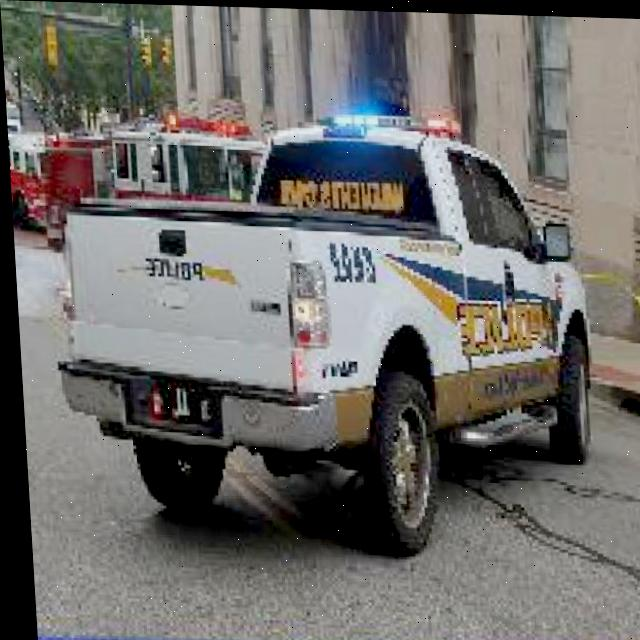emergency: (36, 98, 600, 560)
